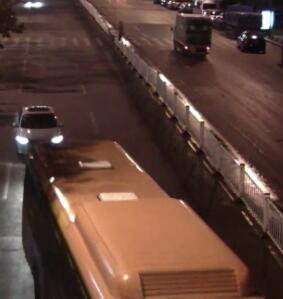bus: (21, 140, 268, 294)
car: (10, 102, 68, 159), (166, 9, 214, 59), (235, 25, 269, 56)
